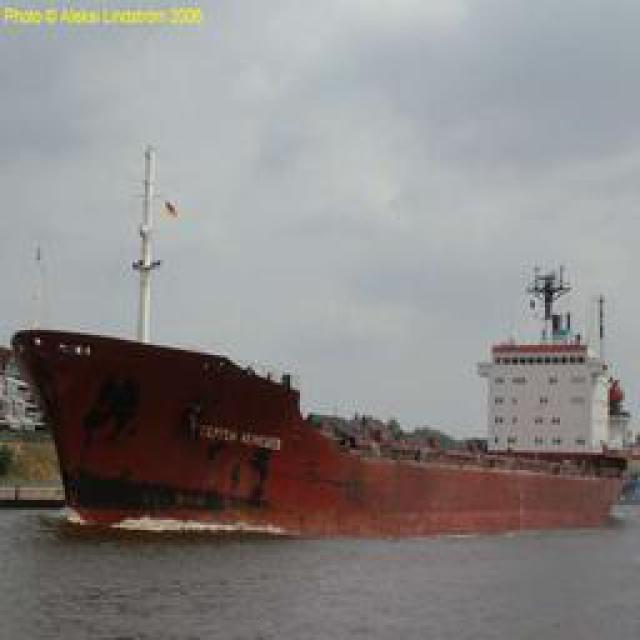Ship: (4, 131, 640, 554)
